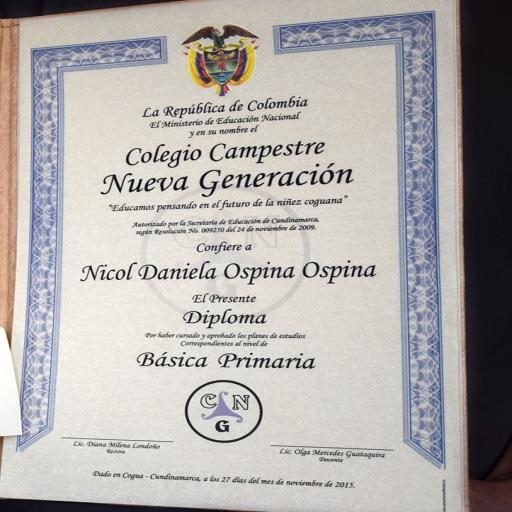bachillerato: (103, 342, 333, 384)
diploma: (2, 2, 463, 510)
escudo: (173, 21, 262, 105)
institucion: (85, 132, 372, 199)
nombre: (76, 255, 386, 288)
